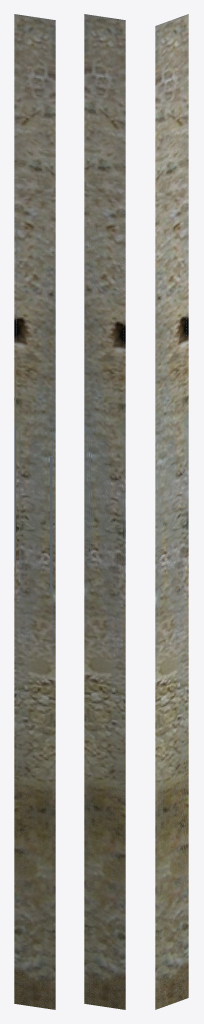
The model's file is 西庸城堡58.dae.
3 views of the same model, side by side, from view 1: azimuth 30°, elevation 25°; view 2: azimuth 210°, elevation 25°; view 3: azimuth 270°, elevation 25° (orthographic).
Visible parts, largest first — view 1: SketchUp; view 2: SketchUp; view 3: SketchUp.
Part boxes in pixels (left/top/right/bottom): SketchUp: left=14, top=14, right=55, bottom=1009; SketchUp: left=84, top=14, right=125, bottom=1009; SketchUp: left=155, top=14, right=188, bottom=1009.
Size of the model in its own units: 20.98 by 24.52 by 803.
